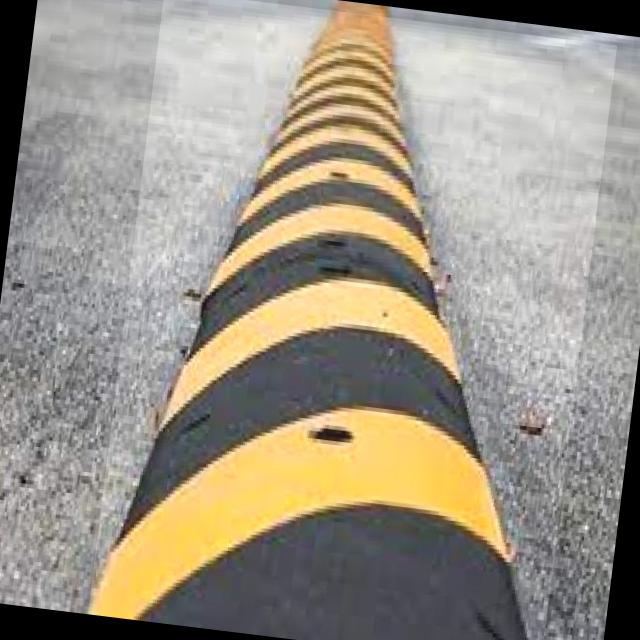bump: (87, 0, 616, 640)
